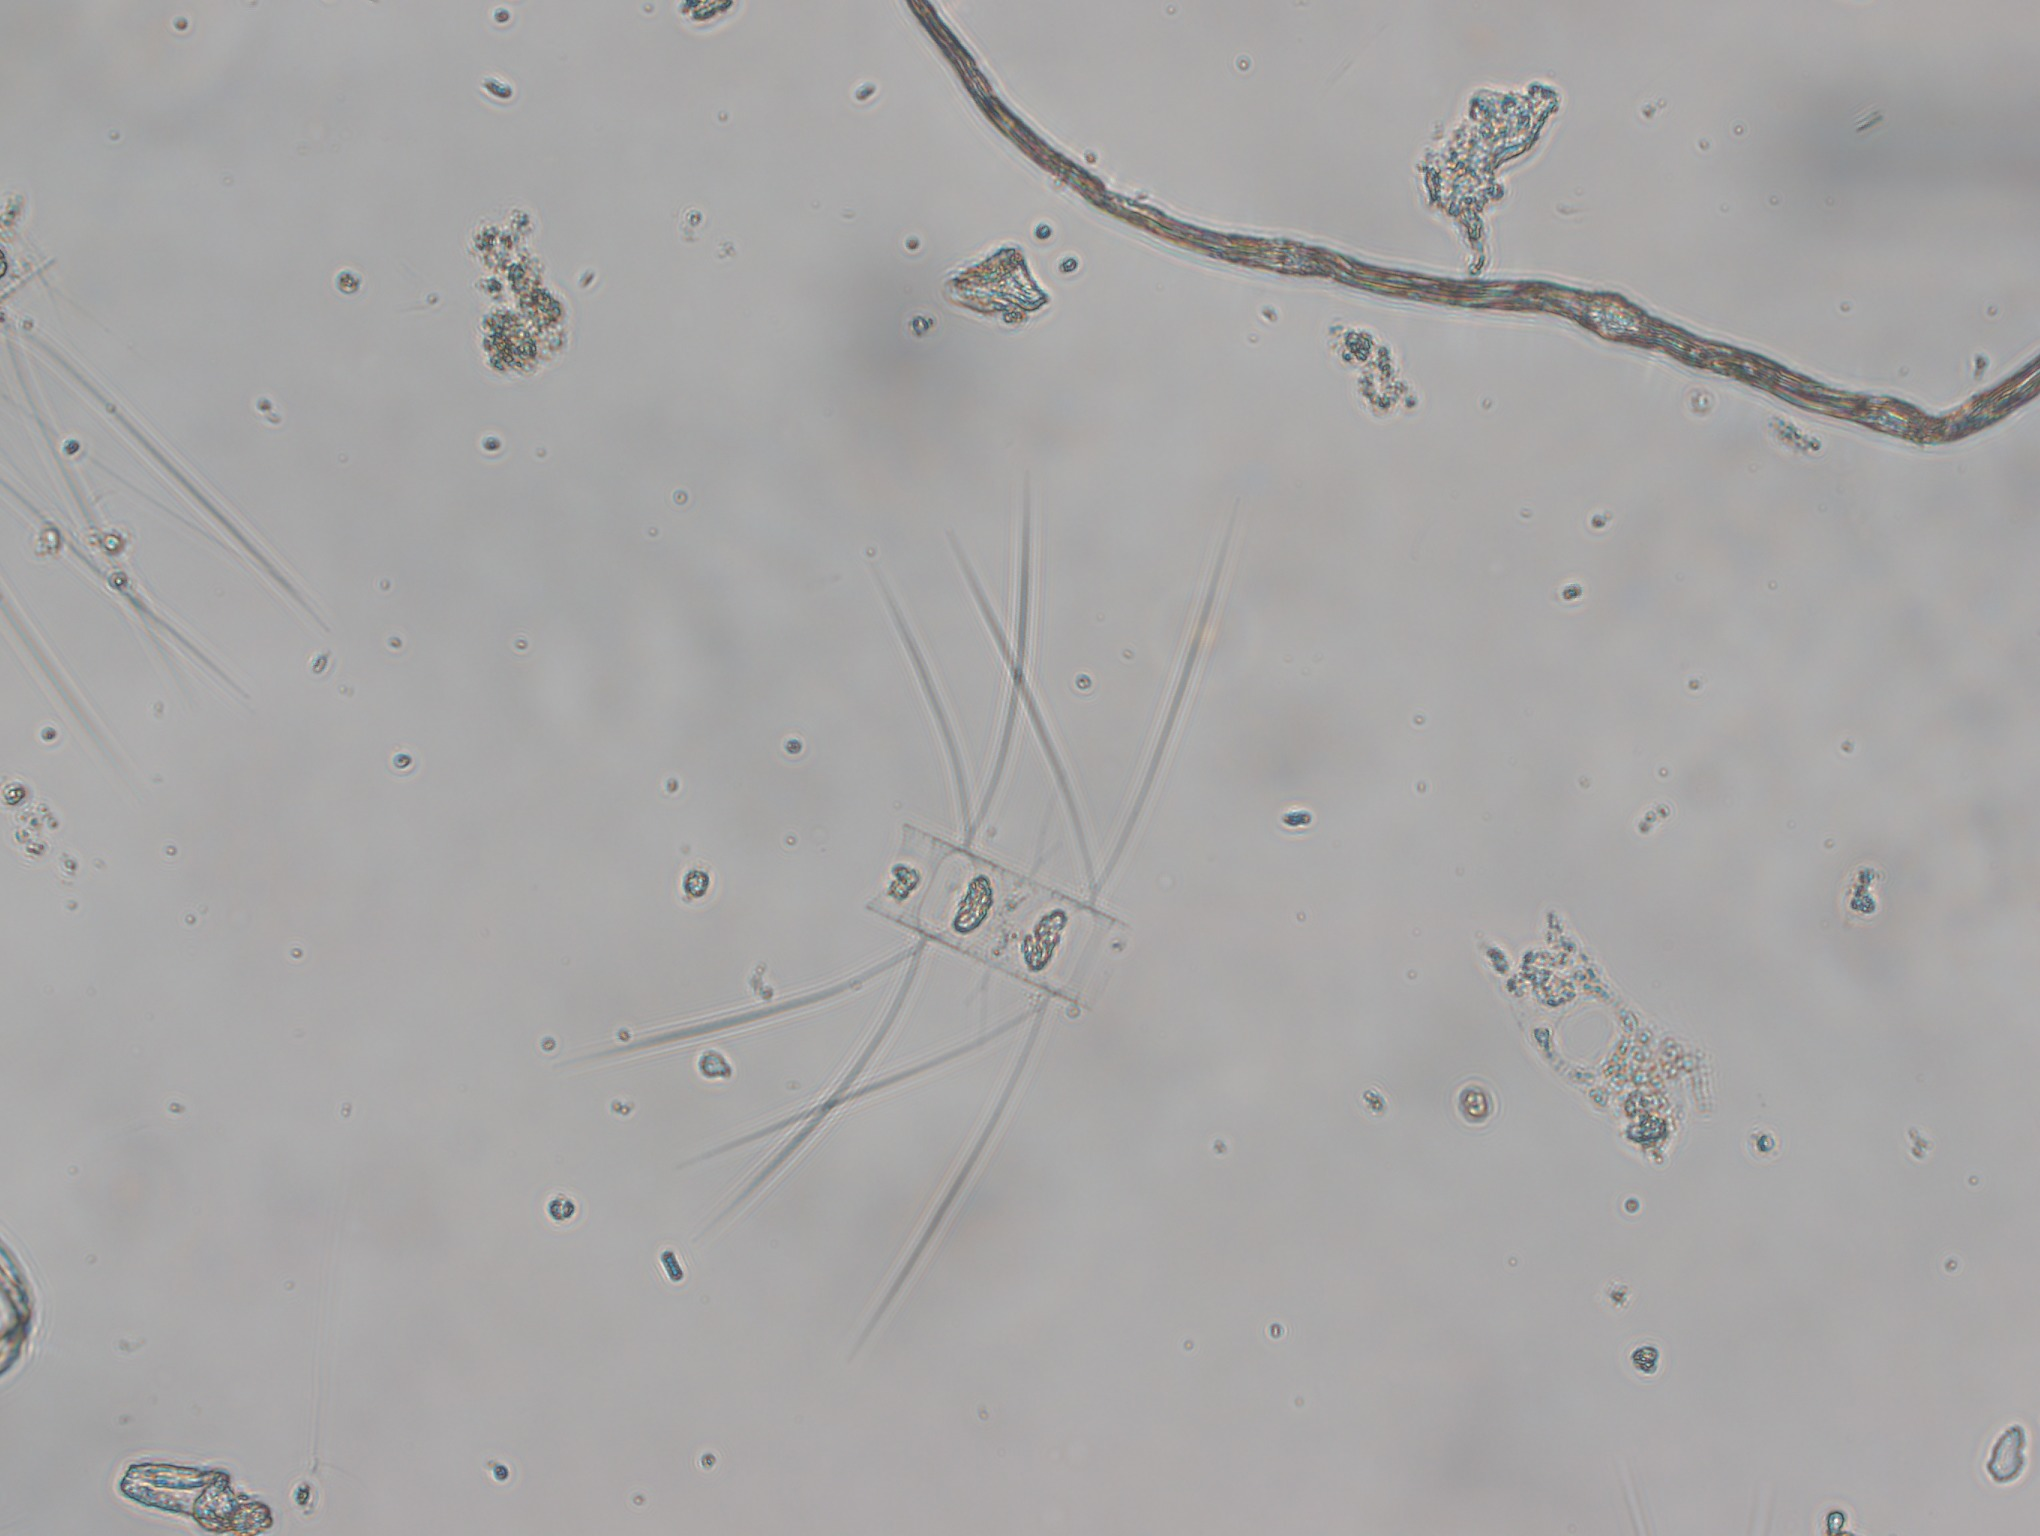chaetoceros: (603, 468, 1239, 1321)
eucampia: (1480, 904, 1721, 1158)
